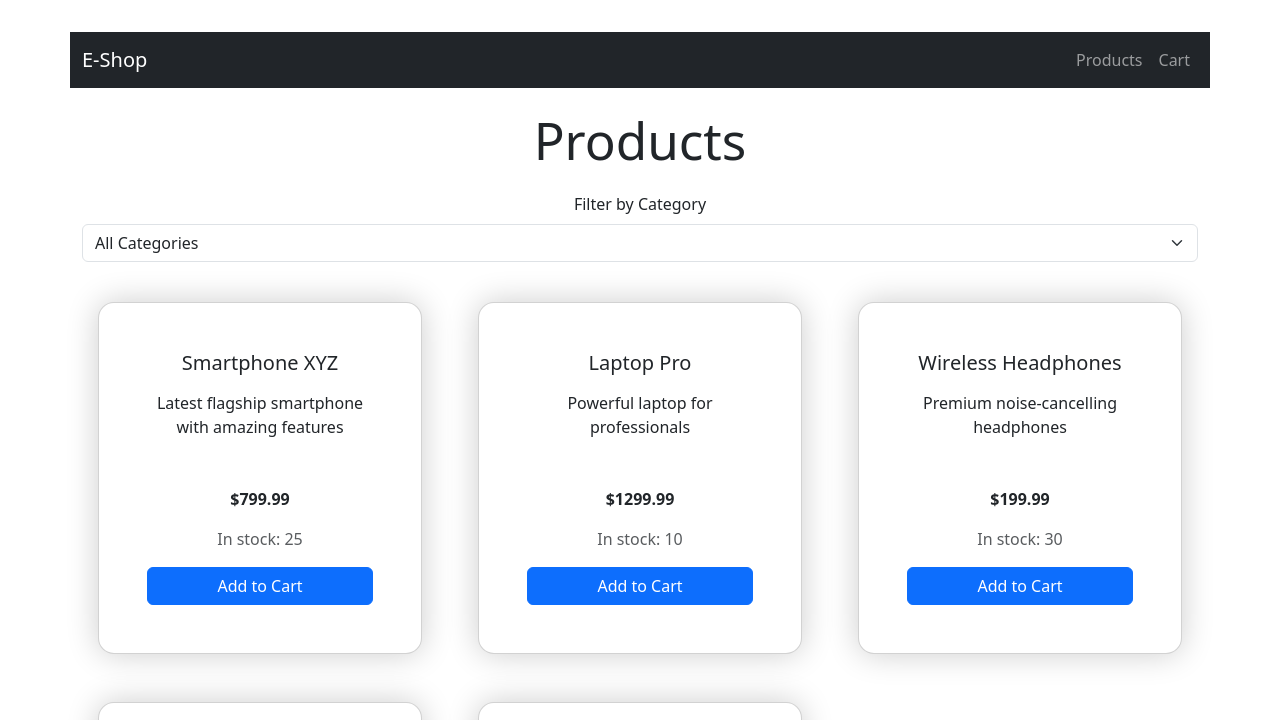
Test case: Products Page › should add a product to the cart
// Click add to cart button on first product
Click the button "Add to Cart" below "In stock: 25".
click(260, 586)  # box [147, 567, 373, 605]
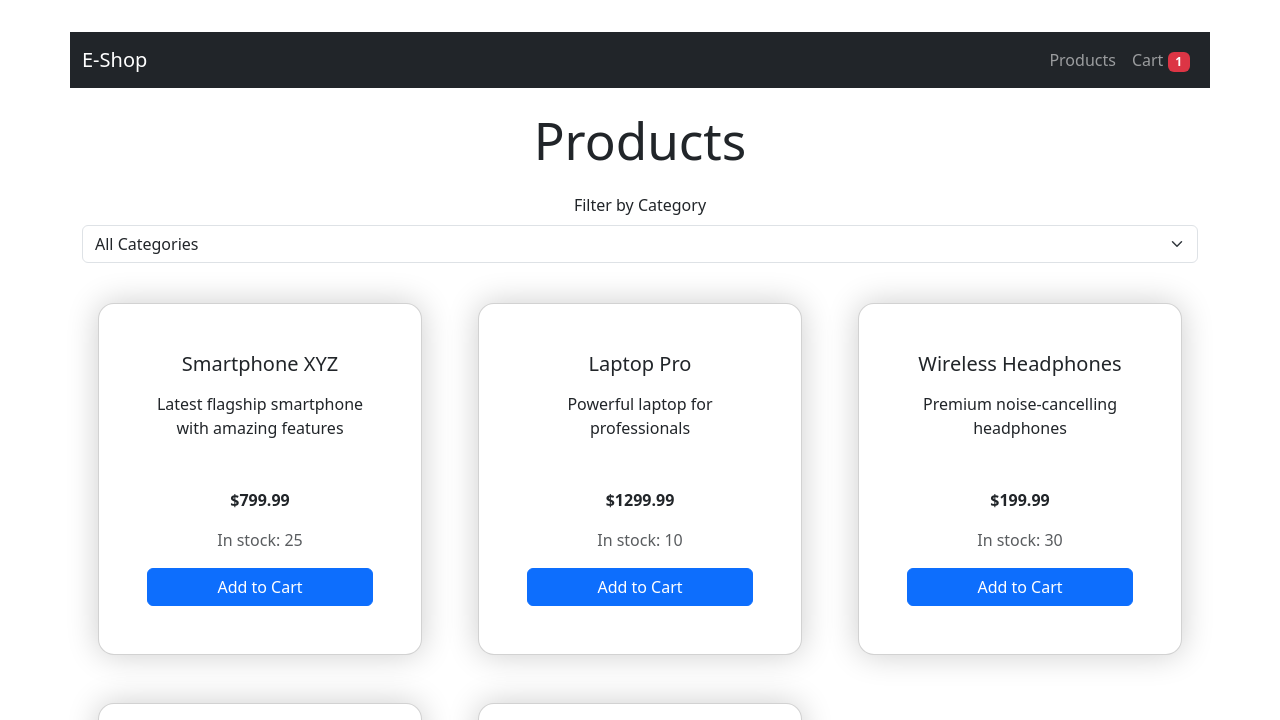
Result: the text "1" is shown at [1168, 52, 1190, 72]
